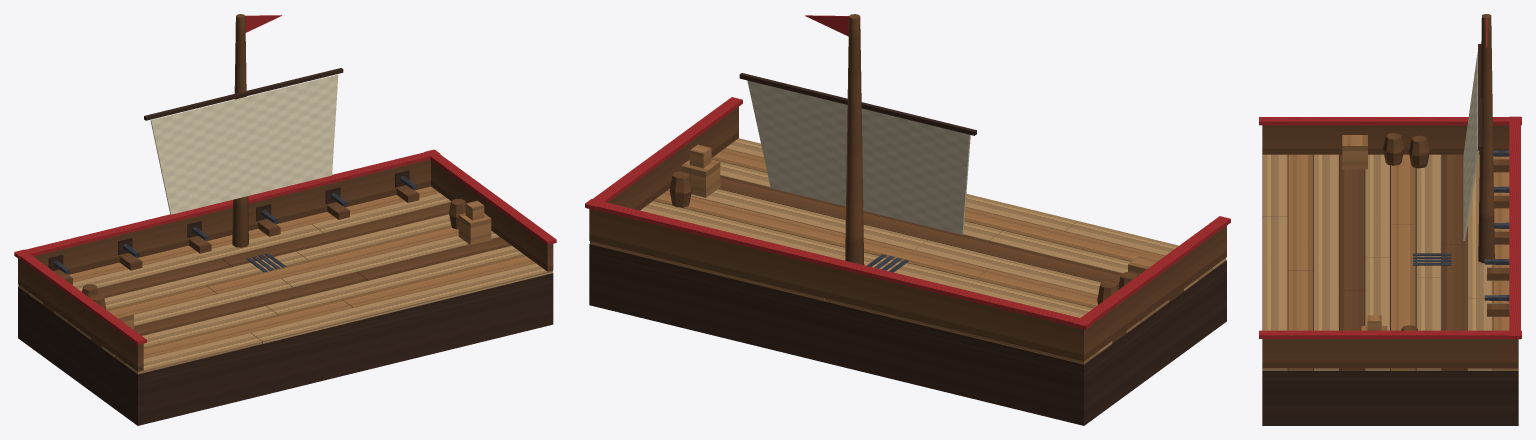
The model's file is SM_Env_BoardingDeck_HQ.glb.
3 renders of one model, left to right at view 1: azimuth 30°, elevation 25°; view 2: azimuth 150°, elevation 25°; view 3: azimuth 270°, elevation 25°, orthographic. The views are drawn at different scales.
Parts seen in each view (by area): view 1: SM_Env_BoardingDeck_HQ; view 2: SM_Env_BoardingDeck_HQ; view 3: SM_Env_BoardingDeck_HQ.
Part boxes in pixels (x1,y1,x2,y2): SM_Env_BoardingDeck_HQ: [14, 14, 556, 425]; SM_Env_BoardingDeck_HQ: [585, 14, 1230, 425]; SM_Env_BoardingDeck_HQ: [1259, 14, 1521, 425].
Size of the model in its own units: 16.2 by 10.39 by 8.2.
1 material, 1 textured.
